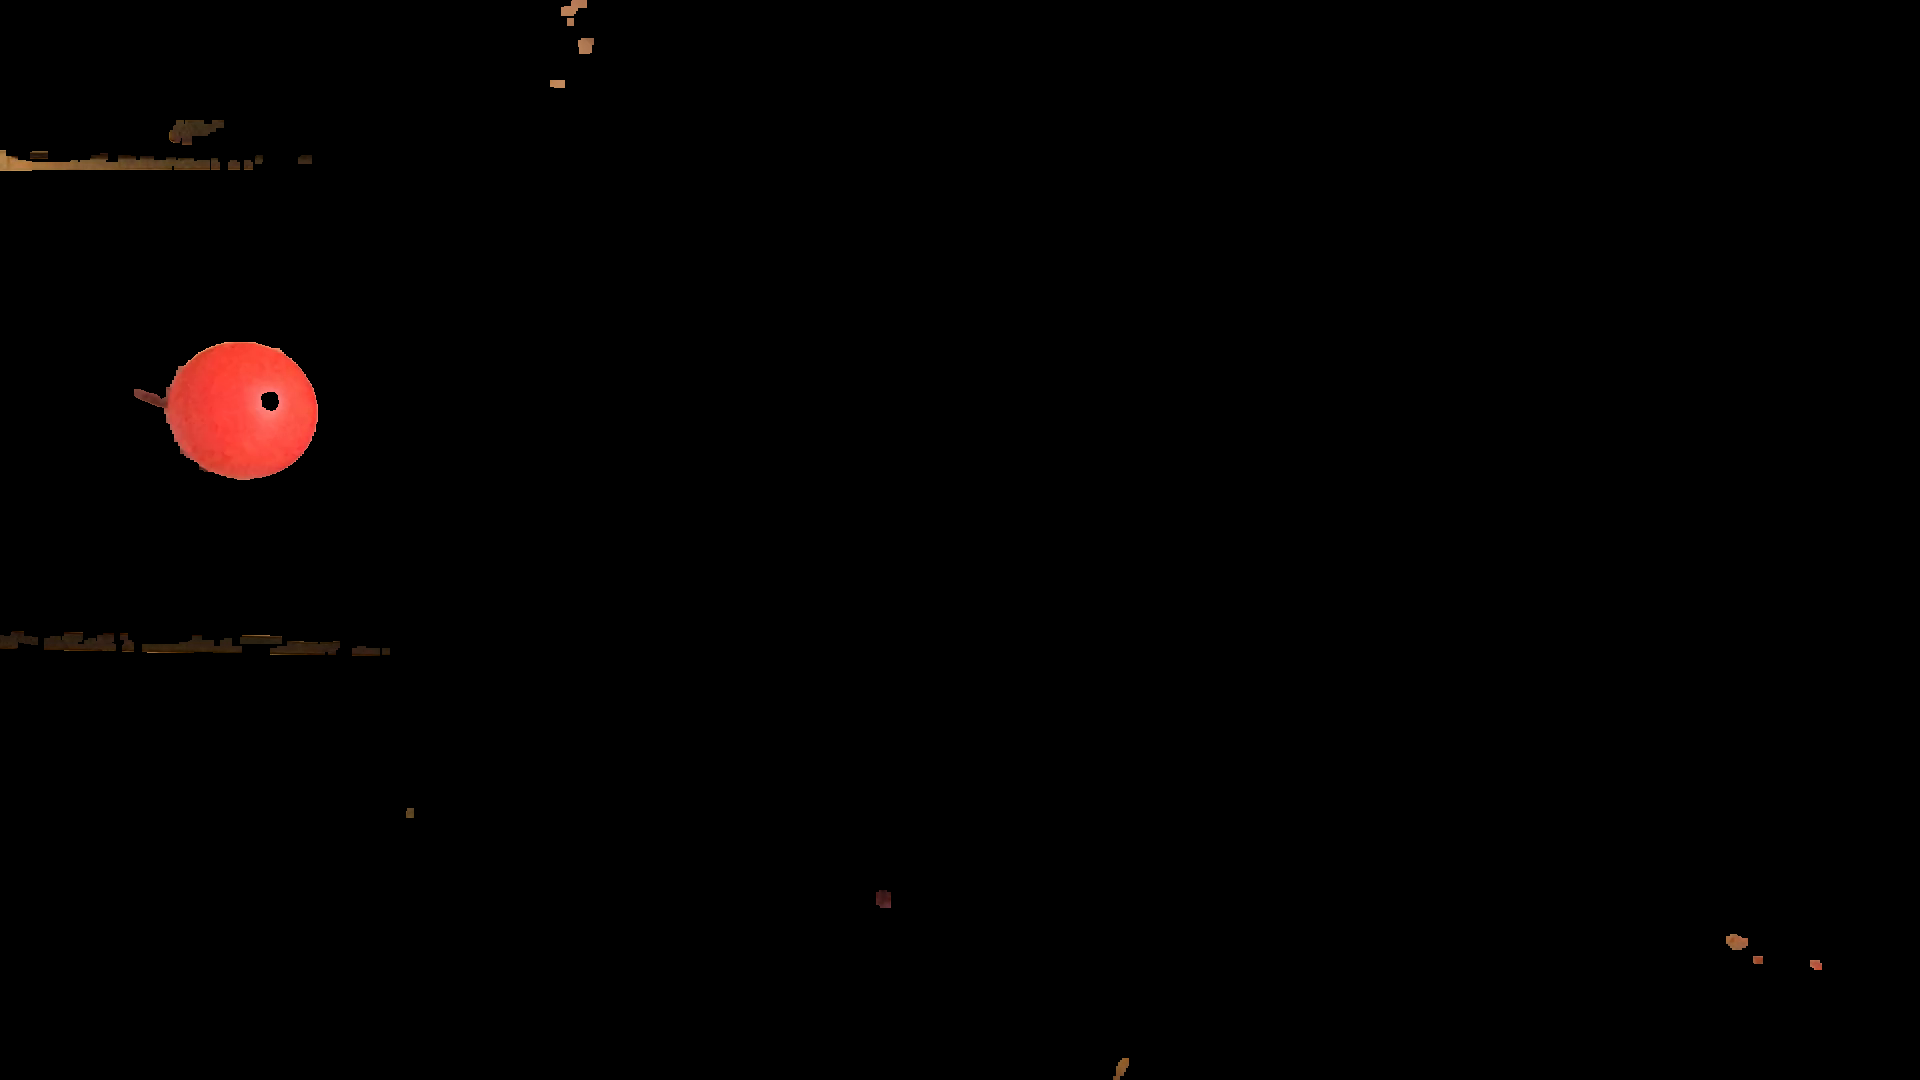Ball: (169, 342, 319, 481)
